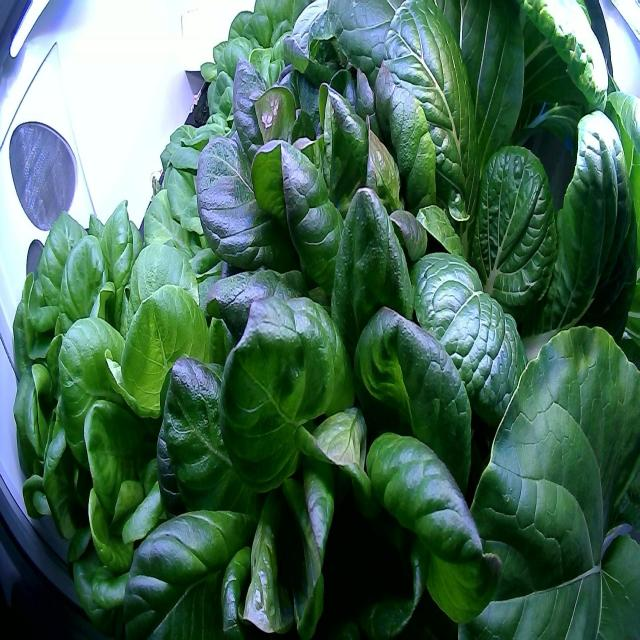Ready: (112, 182, 506, 639), (10, 195, 238, 636), (190, 35, 430, 342), (140, 92, 289, 303), (196, 0, 337, 171)
